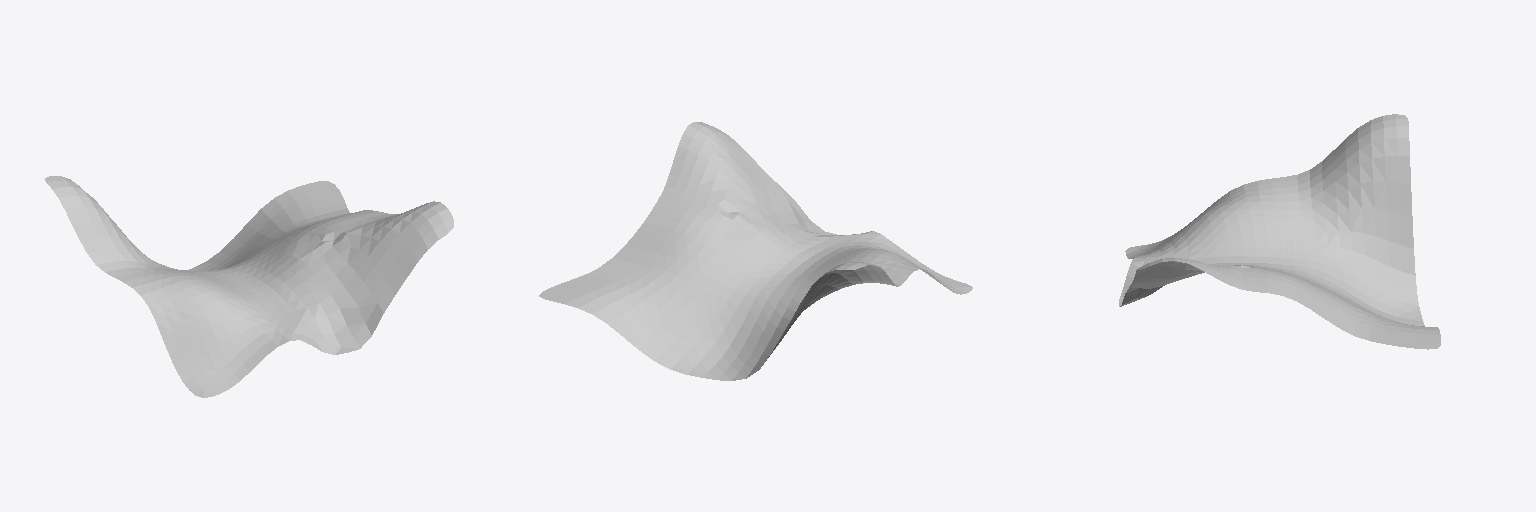
Rendered from Mesh5_Original.obj.
The picture shows the model from 3 angles: view 1: azimuth 30°, elevation 25°; view 2: azimuth 150°, elevation 25°; view 3: azimuth 270°, elevation 25°; orthographic projection.
Visible parts, largest first — view 1: Full_Plane.014; view 2: Full_Plane.014; view 3: Full_Plane.014.
Boxes of the visible parts, box(x1,y1,x2,y2) form: Full_Plane.014: box(45, 176, 453, 397); Full_Plane.014: box(539, 122, 972, 380); Full_Plane.014: box(1119, 114, 1440, 349).
Size of the model in its own units: 2.52 by 1.08 by 2.31.